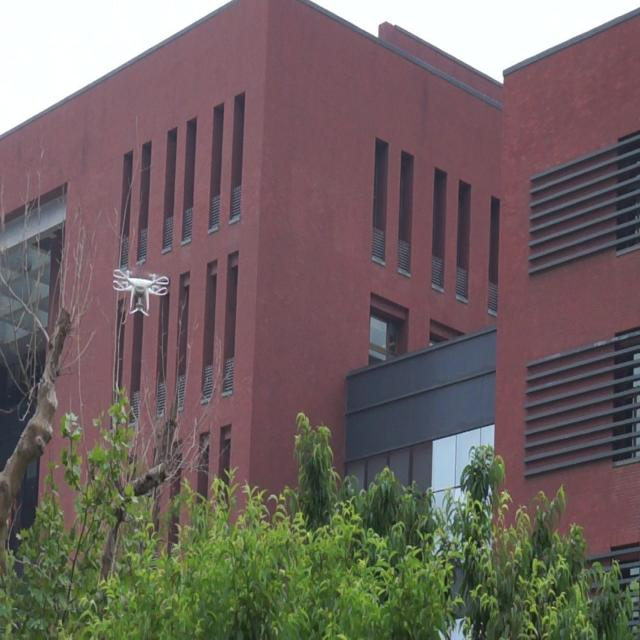drone: (111, 267, 171, 319)
